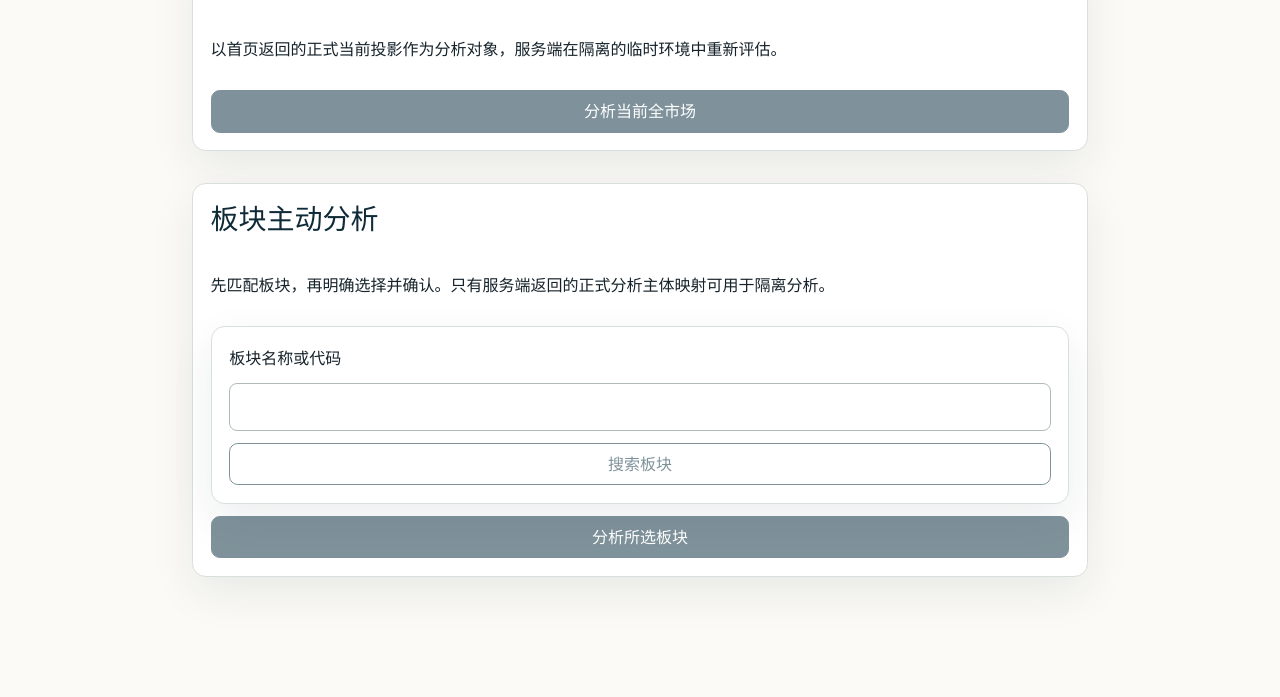
Test: isolated active analysis › fails closed when an exact match returns VALUE with no selected candidate
The width and height of the screenshot is (1280, 697).
(page scrolled)
Type "半导体" into the field labelled "板块名称或代码".
click(640, 407); type("半导体")  # box 229,384 -> 1051,431
(page scrolled)
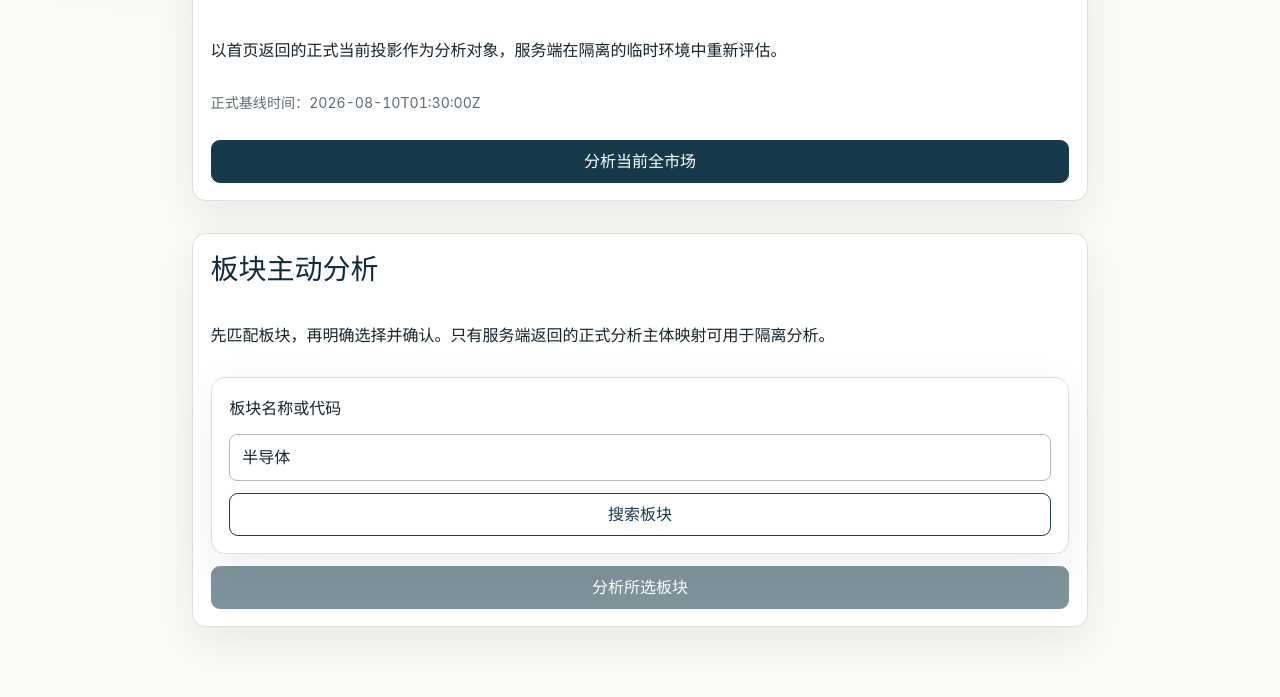
Click the button "搜索板块".
click(640, 514)  # box 229,493 -> 1051,536
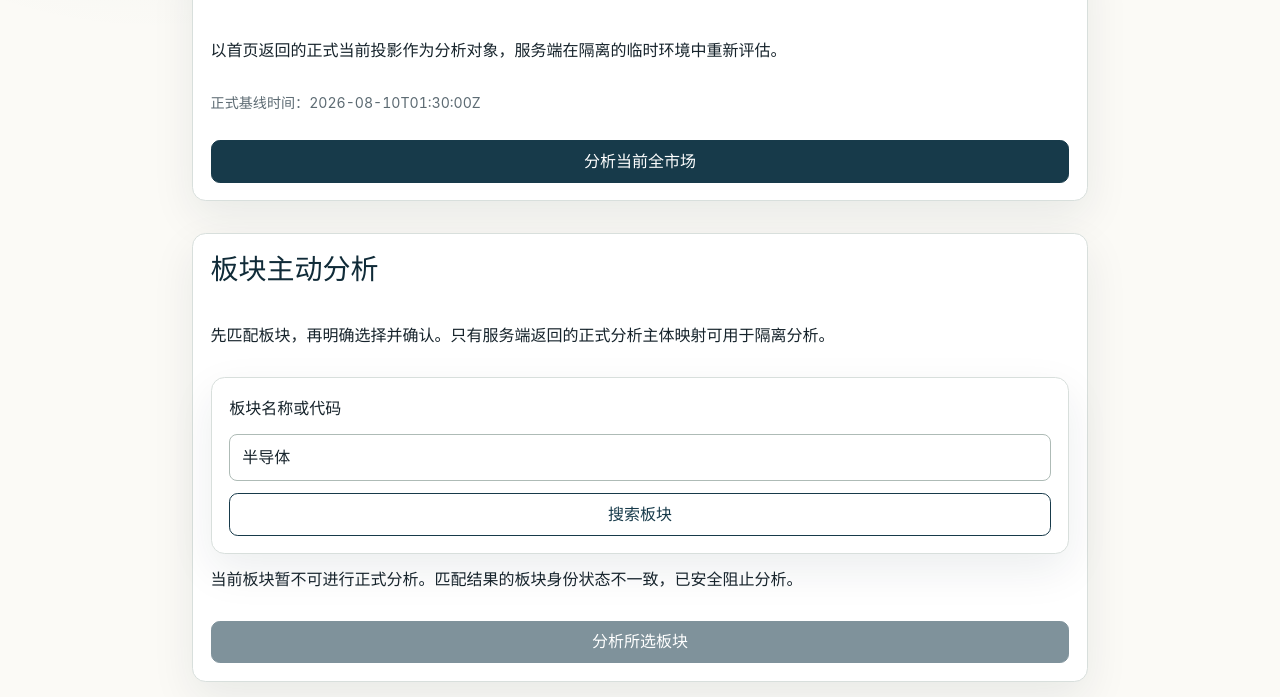
Check: the button "分析所选板块" is disabled, box 211,620 -> 1069,663
Check: the text "当前板块暂不可进行正式分析。匹配结果的板块身份状态不一致，已安全阻止分析。" is shown, box 211,569 -> 803,589
